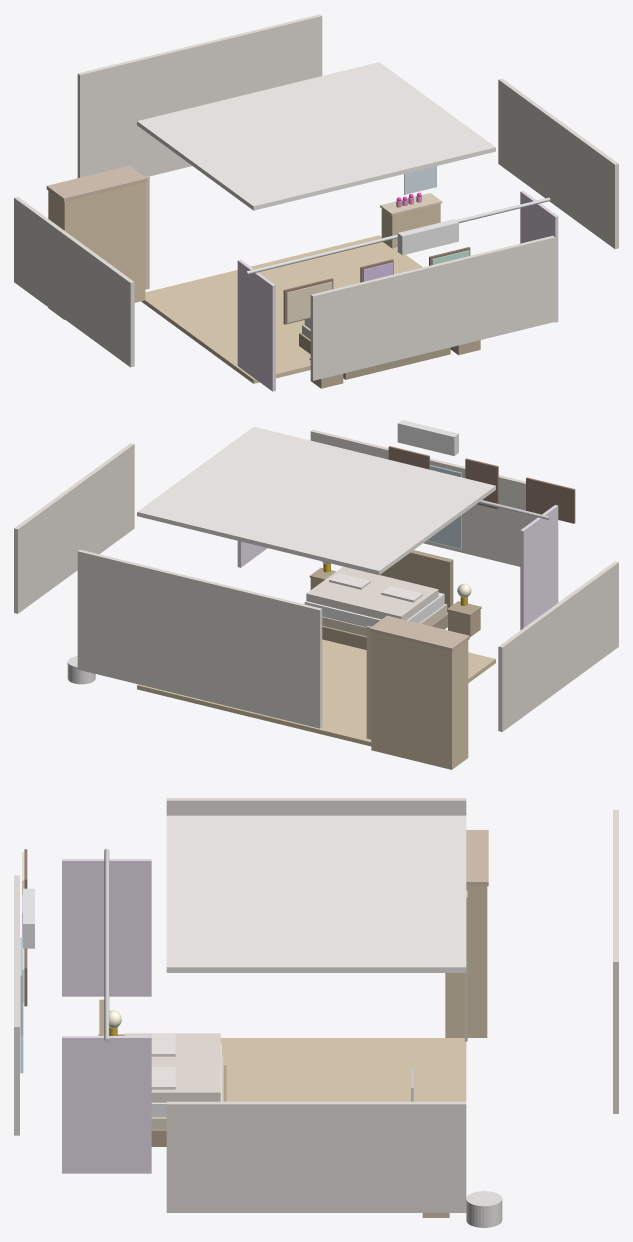
The model's file is room_bedroom.glb.
3 renders of one model, top to bottom at view 1: azimuth 30°, elevation 25°; view 2: azimuth 150°, elevation 25°; view 3: azimuth 270°, elevation 25°, orthographic. The views are drawn at different scales.
Parts seen in each view (by area): view 1: Ceiling, BackWall, FrontWall_T, Floor, LeftWall, RightWall, Wardrobe, Curtain_0, WDTop, Curtain_1, AC, Dresser (+6 smaller); view 2: FrontWall_T, Ceiling, Wardrobe, LeftWall, RightWall, Floor, BackWall, Curtain_0, Comforter, HeadBoard, WDTop, Frame_0 (+10 smaller); view 3: Ceiling, RightWall, Floor, Curtain_1, Curtain_0, LeftWall, Wardrobe, Comforter, FrontWall_T, BackWall, WDTop, Laundy (+4 smaller).
Boxes of the visible parts, x1,y1,x2,y2 form: Ceiling: [137, 62, 495, 210]; BackWall: [310, 235, 555, 380]; FrontWall_T: [77, 14, 322, 177]; Floor: [141, 235, 422, 383]; LeftWall: [14, 197, 134, 367]; RightWall: [498, 78, 618, 249]; Wardrobe: [48, 182, 145, 319]; Curtain_0: [237, 259, 275, 391]; WDTop: [46, 165, 146, 201]; Curtain_1: [520, 190, 558, 322]; AC: [397, 219, 458, 255]; Dresser: [381, 203, 440, 248]; FrontWall_T: [77, 549, 322, 728]; Ceiling: [137, 426, 495, 575]; Wardrobe: [371, 632, 468, 769]; LeftWall: [498, 561, 618, 731]; RightWall: [14, 443, 134, 613]; Floor: [137, 639, 495, 746]; BackWall: [310, 429, 537, 566]; Curtain_0: [520, 505, 558, 630]; Comforter: [306, 566, 438, 620]; HeadBoard: [380, 550, 453, 612]; WDTop: [369, 615, 469, 651]; Frame_0: [526, 477, 575, 523]; Ceiling: [166, 815, 466, 972]; RightWall: [166, 1101, 466, 1212]; Floor: [220, 1038, 466, 1101]; Curtain_1: [62, 1036, 151, 1173]; Curtain_0: [62, 859, 151, 996]; LeftWall: [166, 798, 466, 815]; Wardrobe: [445, 886, 487, 1037]; Comforter: [124, 1033, 220, 1102]; FrontWall_T: [613, 810, 618, 1113]; BackWall: [14, 875, 19, 1135]; WDTop: [466, 830, 488, 886]; Laundy: [466, 1191, 502, 1227].
Size of the model in its own units: 1210 by 430 by 1010.
